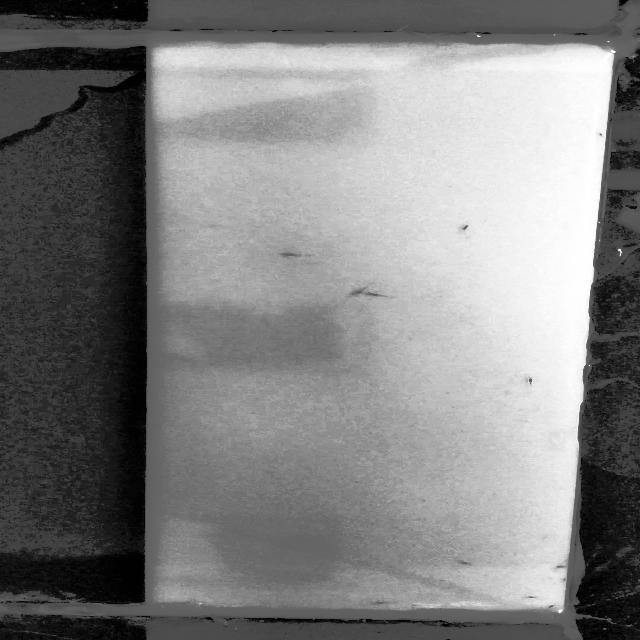shrimp: (357, 290, 401, 300), (272, 251, 328, 258), (456, 220, 480, 233), (521, 372, 541, 387), (350, 283, 369, 298), (518, 593, 544, 602), (454, 558, 476, 568), (551, 562, 569, 571), (374, 600, 393, 606), (547, 601, 557, 611)
